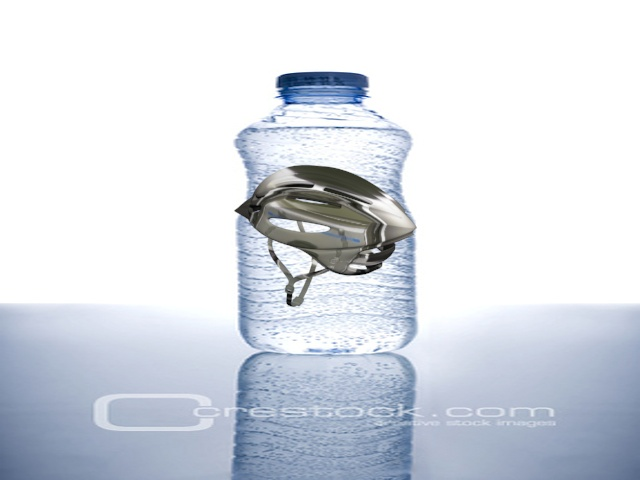bike_helmet: (233, 161, 424, 320)
